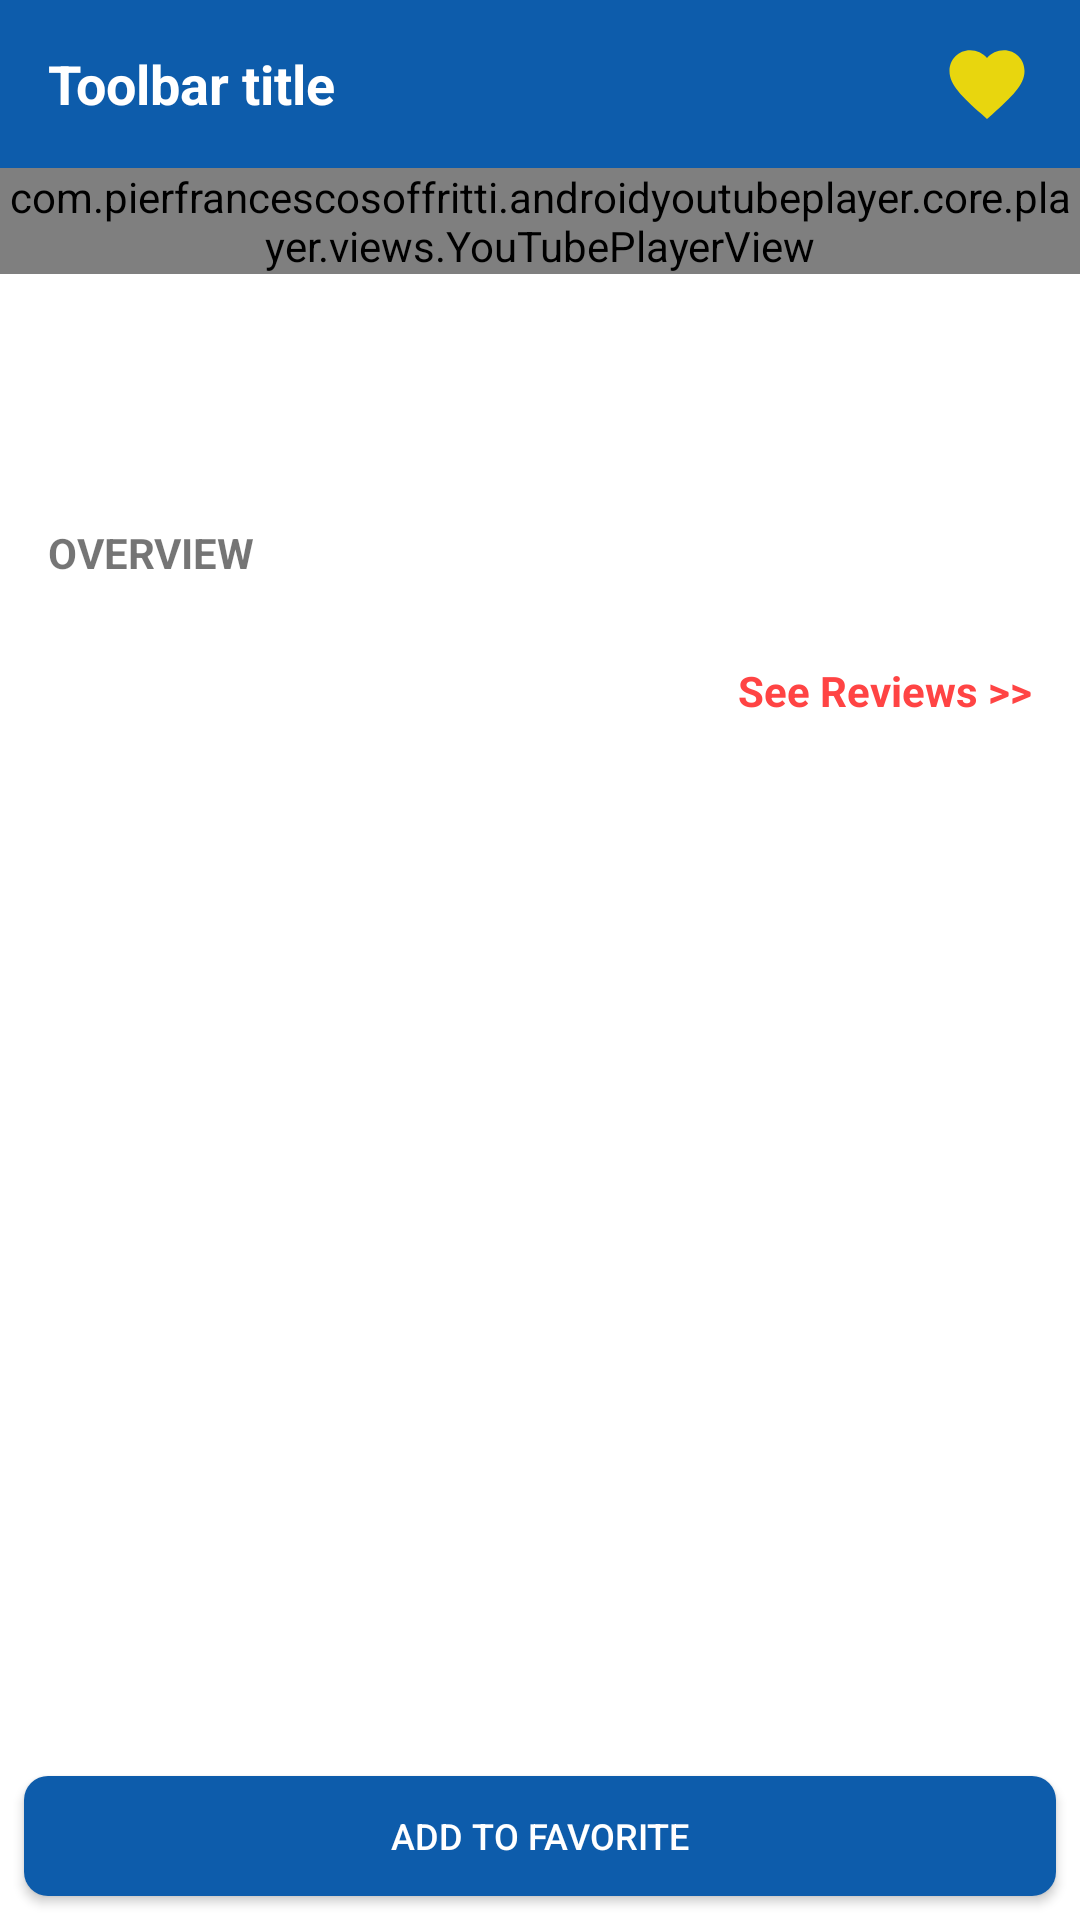

Screen size 1080*1920. Icon name, then its box in pixels as (x1, y1, x2, y2):
favorite: (949, 50, 1025, 119)
